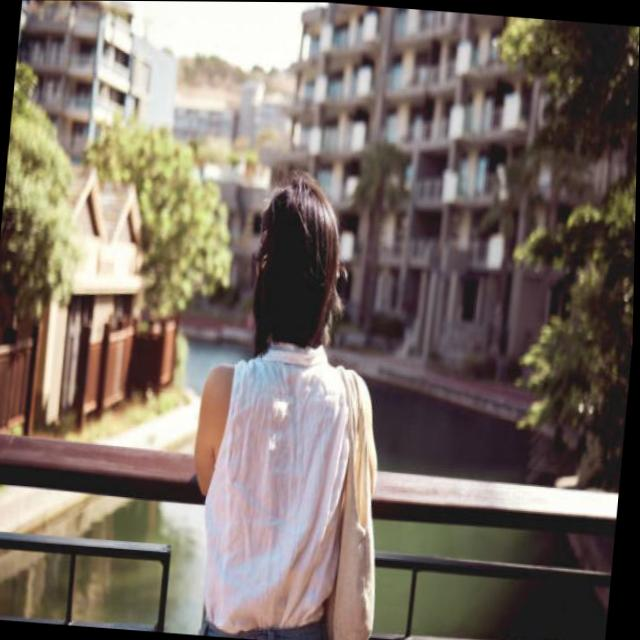no helmet: (230, 165, 362, 358)
